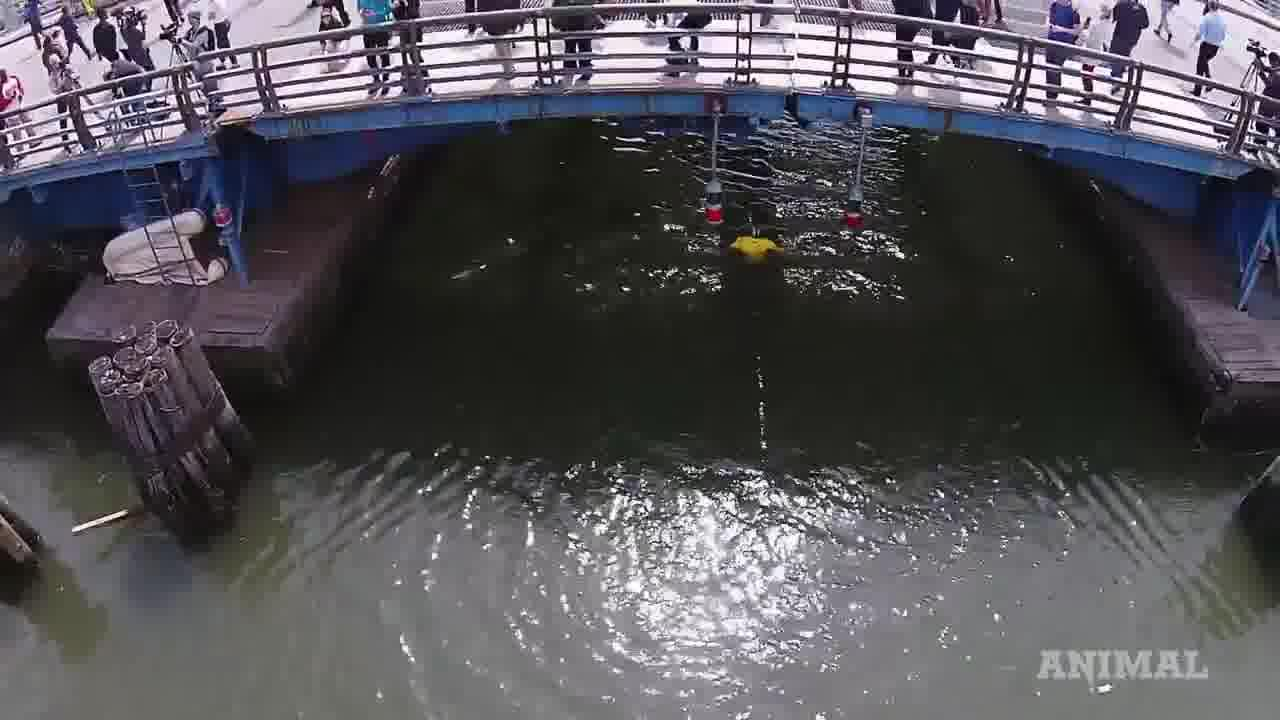human: (727, 215, 786, 262)
